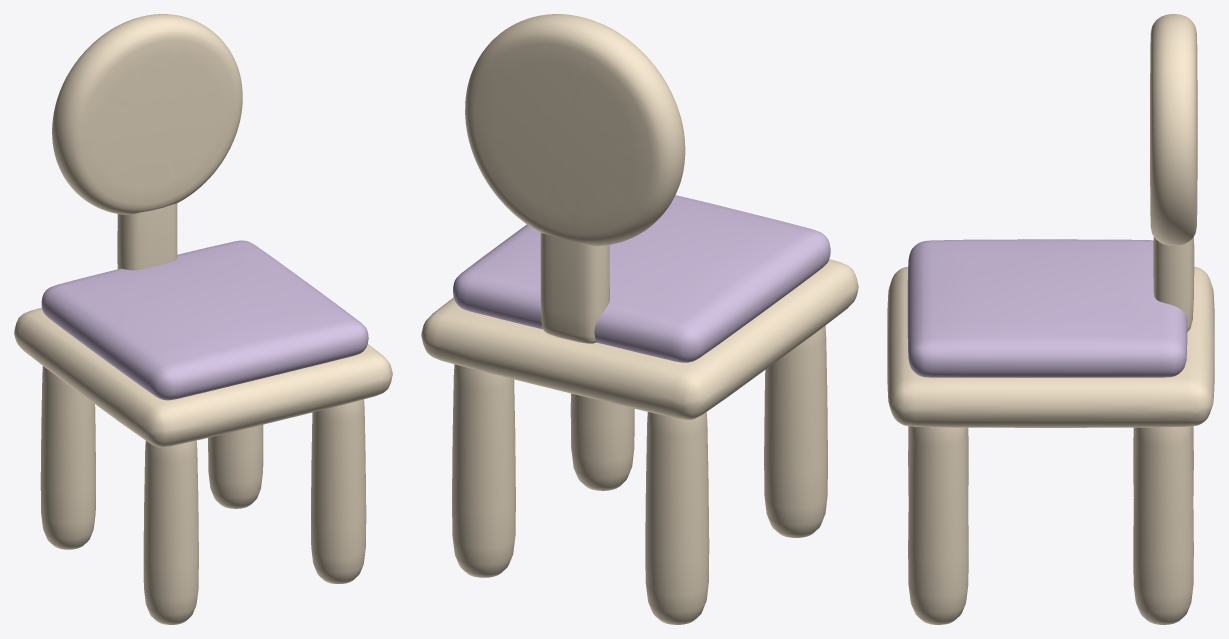
File: chair_c.glb
The picture shows the model from 3 angles, left to right: view 1: azimuth 30°, elevation 25°; view 2: azimuth 150°, elevation 25°; view 3: azimuth 270°, elevation 25°; orthographic projection. The views are drawn at different scales.
Parts seen in each view (by area): view 1: body; view 2: body; view 3: body.
Boxes of the visible parts, x1,y1,x2,y2 form: body: [14, 14, 392, 624]; body: [421, 14, 858, 624]; body: [887, 14, 1214, 624].
Size of the model in its own units: 0.4601 by 0.89 by 0.4801.
